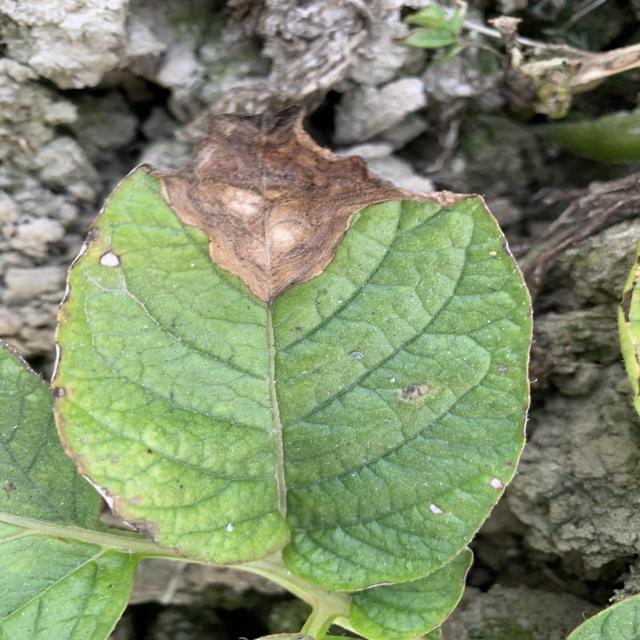lateblight: (148, 105, 468, 302)
